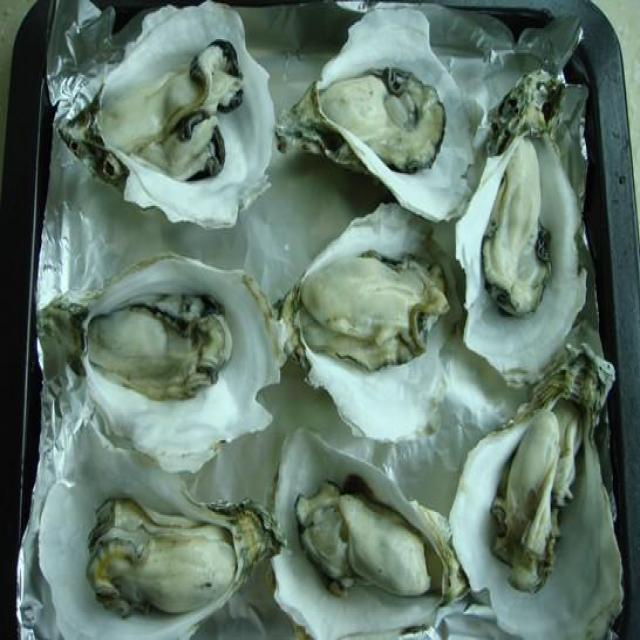Oyster-Open: (30, 248, 292, 478), (35, 415, 288, 640), (448, 341, 634, 640), (57, 0, 282, 227), (275, 0, 478, 229), (276, 198, 464, 442), (455, 62, 590, 382), (271, 420, 467, 640)
